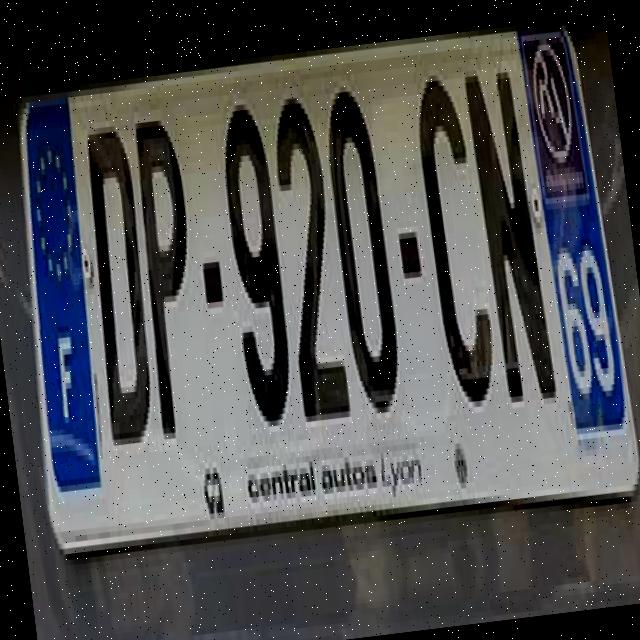EU: (5, 19, 640, 576)
France: (18, 105, 100, 483)
